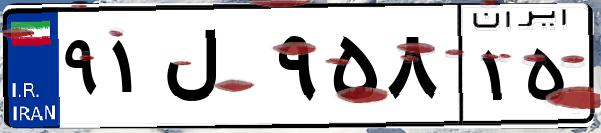1: (475, 38, 525, 113), (110, 28, 158, 98)
5: (330, 28, 385, 110), (525, 38, 570, 115)
8: (385, 28, 445, 110)
9: (270, 28, 330, 110), (57, 26, 110, 100)
ل: (158, 20, 270, 120)
